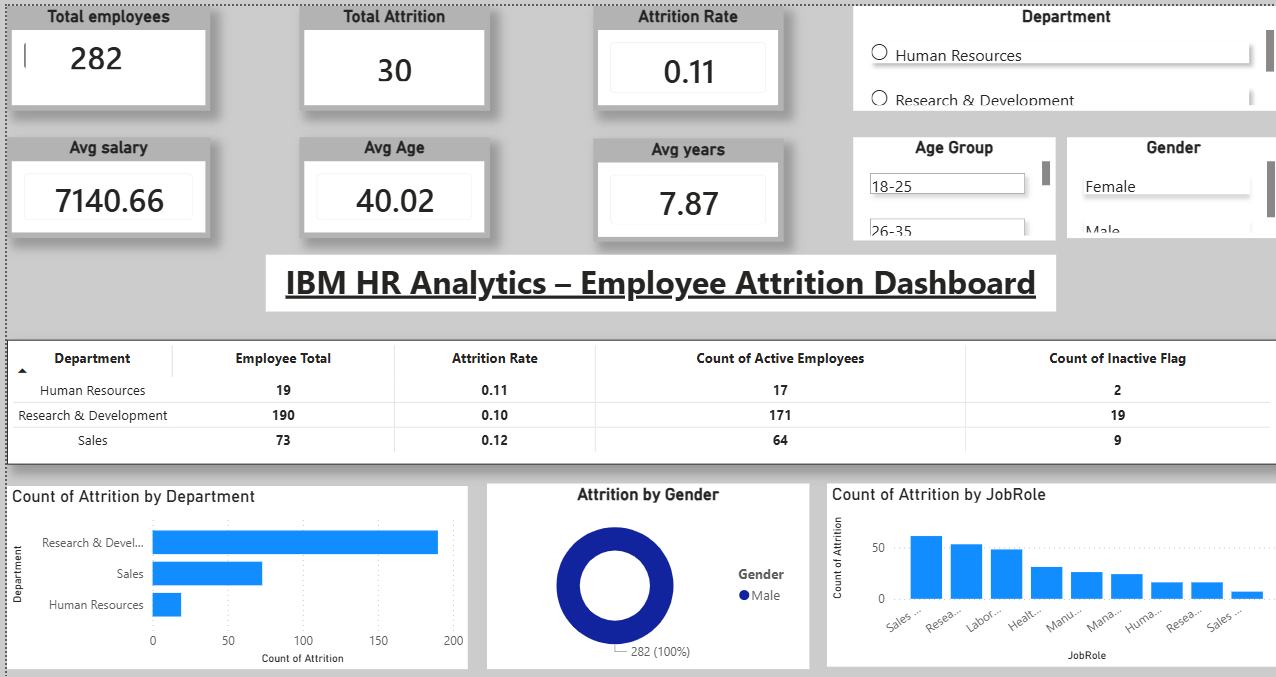

The dashboard page shown, as its layout file describes it:
{"tool":"powerbi","page":{"name":"Page 1","canvas":[1280,720],"ordinal":0},"visuals":[{"type":"cardVisual","title":"Total employees","fields":{"Data":["Employee_Att.Employee Total"]},"box":[0,0,203.3,104.4],"z":0},{"type":"cardVisual","title":"Total Attrition","fields":{"Data":["employee_att.Attrition Count"]},"box":[292.2,0,190,104.4],"z":1000},{"type":"cardVisual","title":"Attrition Rate","fields":{"Data":["Employee_Att.Attrition Rate"]},"box":[586.7,0,190,104.4],"z":2000},{"type":"cardVisual","title":"Avg salary","fields":{"Data":["Avg(Employee_Att.MonthlyIncome)"]},"box":[0,131.1,203.3,101.1],"z":3000},{"type":"cardVisual","title":"Avg Age","fields":{"Data":["Avg(Employee_Att.Age)"]},"box":[292.2,131.1,190,101.1],"z":4000},{"type":"cardVisual","title":"Avg years","fields":{"Data":["Employee_Att.Avg Years"]},"box":[586.7,132.2,190,103.3],"z":5000},{"type":"donutChart","title":"Attrition by Gender","fields":{"Category":["Employee_Att.Gender"],"Y":["CountNonNull(employee_att.Attrition)"]},"box":[480,477.8,322.2,185.6],"z":6000},{"type":"pivotTable","fields":{"Values":["employee_att.Employee Total","employee_att.Attrition Rate","CountNonNull(employee_att.Active Employees)","CountNonNull(employee_att.Inactive Flag)"],"Rows":["employee_att.Department"]},"box":[0,333.3,1270,124.4],"z":7000},{"type":"clusteredBarChart","fields":{"Category":["employee_att.Department"],"Y":["CountNonNull(employee_att.Attrition)"]},"box":[0,480,461.1,183.3],"z":9000},{"type":"columnChart","fields":{"Category":["employee_att.JobRole"],"Y":["CountNonNull(employee_att.Attrition)"]},"box":[820,477.8,457.8,183.3],"z":10000},{"type":"listSlicer","fields":{"Values":["employee_att.Department"]},"box":[846.7,0,426.7,104.4],"z":11000},{"type":"listSlicer","fields":{"Values":["employee_att.Age Group"]},"box":[846.7,131.1,202.2,103.3],"z":12000},{"type":"listSlicer","fields":{"Values":["employee_att.Gender"]},"box":[1060,131.1,213.3,101.1],"z":13000},{"type":"textbox","box":[258.9,248.9,790,56.7],"z":14000}]}

Visuals, with their boxes on the page's 1280x720 design canvas (x1, y1, x2, y2). These are canvas units, not pixel positions in the 1276x677 screenshot, which may show the page scaled, cropped or inside an application window:
"Total employees" cardVisual: box(0, 0, 203, 104)
"Total Attrition" cardVisual: box(292, 0, 482, 104)
"Attrition Rate" cardVisual: box(587, 0, 777, 104)
"Avg salary" cardVisual: box(0, 131, 203, 232)
"Avg Age" cardVisual: box(292, 131, 482, 232)
"Avg years" cardVisual: box(587, 132, 777, 236)
"Attrition by Gender" donutChart: box(480, 478, 802, 663)
pivotTable - employee_att.Employee Total x employee_att.Attrition Rate: box(0, 333, 1270, 458)
clusteredBarChart - employee_att.Department x CountNonNull(employee_att.Attrition): box(0, 480, 461, 663)
columnChart - employee_att.JobRole x CountNonNull(employee_att.Attrition): box(820, 478, 1278, 661)
listSlicer - employee_att.Department: box(847, 0, 1273, 104)
listSlicer - employee_att.Age Group: box(847, 131, 1049, 234)
listSlicer - employee_att.Gender: box(1060, 131, 1273, 232)
textbox: box(259, 249, 1049, 306)
